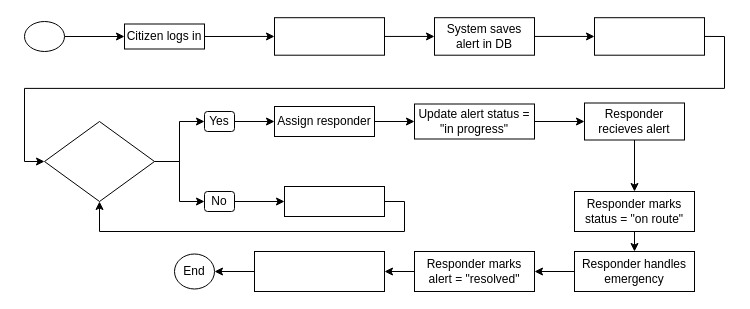
The diagram is 750 pixels wide and 309 high, and some of its shapes have lost their labels. Each missing label, with the box of its shape:
Admin dashboard recieves new alert: (594, 17, 704, 55)
Citizen submits emergency alert: (274, 17, 384, 55)
Is responder available?: (44, 120, 154, 202)
Start: (24, 20, 64, 52)
System notifies citizen (alert resolved): (254, 250, 384, 292)
Wait/Queue alert: (284, 186, 384, 216)
